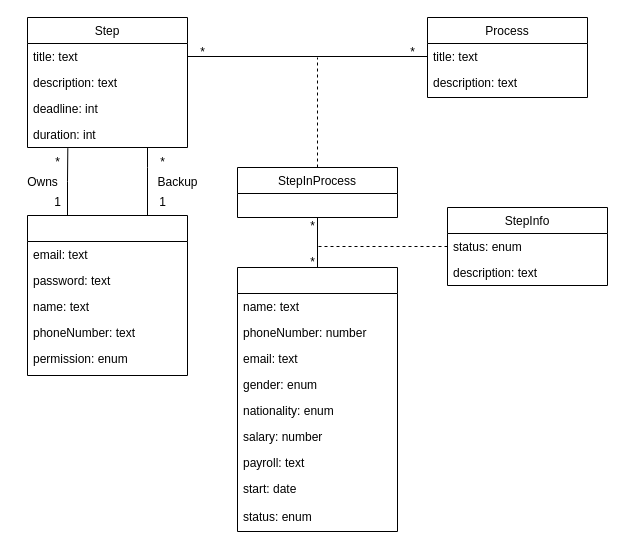
This 625x552 diagram has some shape labels left out. The shapes that lost their labels are listed below. From the top down, each one's box as (x1, y1, x2, y2) in pixels, then its label:
(26, 214, 188, 376): User
(236, 266, 398, 532): Onboardee
